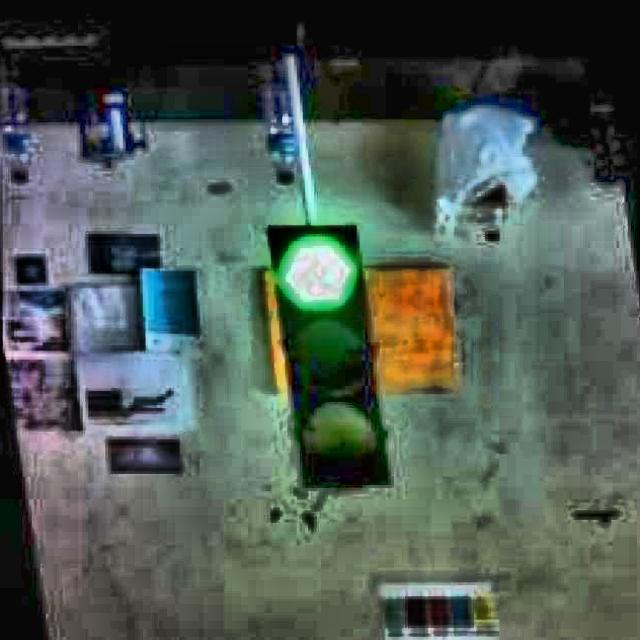green: (272, 222, 397, 496)
